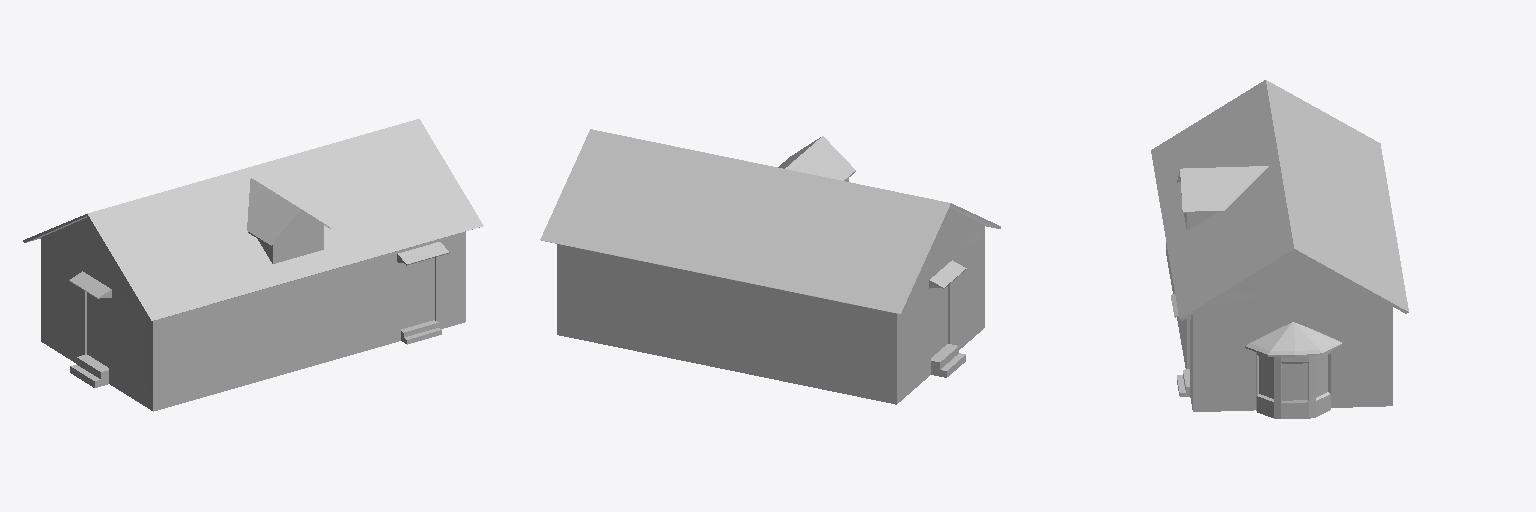
File: cottage_obj.obj
3 views of the same model, side by side, from view 1: azimuth 30°, elevation 25°; view 2: azimuth 150°, elevation 25°; view 3: azimuth 270°, elevation 25° (orthographic).
Visible parts, largest first — view 1: Cube_Cube.002; view 2: Cube_Cube.002; view 3: Cube_Cube.002.
Boxes of the visible parts, <box> form: Cube_Cube.002: <box>23,119,483,411</box>; Cube_Cube.002: <box>540,129,1000,404</box>; Cube_Cube.002: <box>1151,80,1408,418</box>.
Bounding box in the file's own units: 25.98 × 12.28 × 15.88.